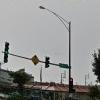Traffic light: (2, 36, 13, 67)
